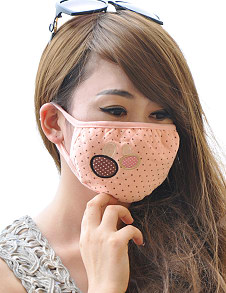face_mask: (67, 57, 177, 201)
